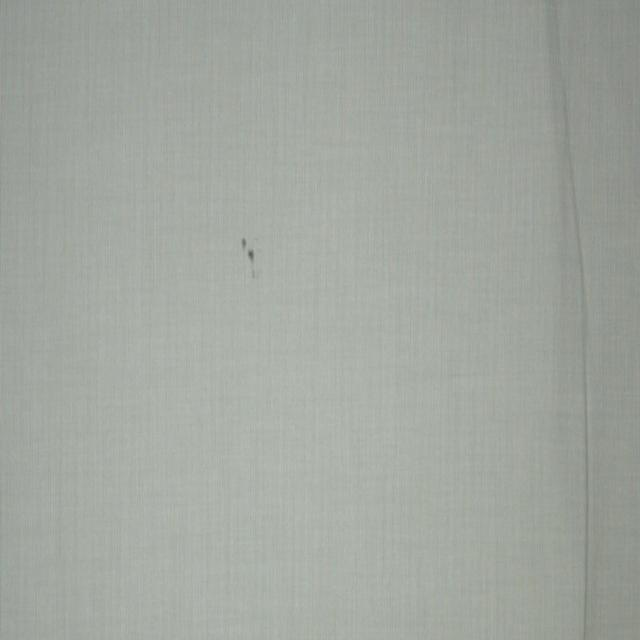dirty: (241, 236, 257, 265)
